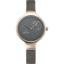watch: (14, 12, 50, 47)
